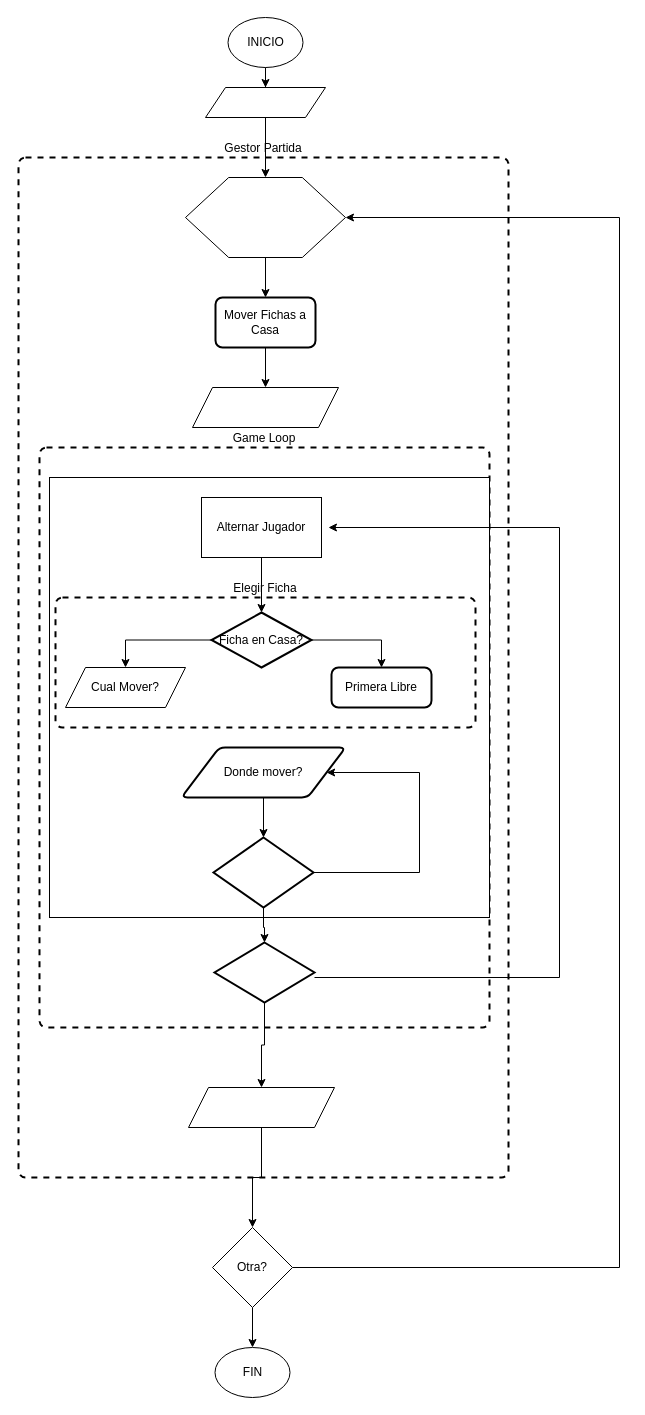
This 645x1415 diagram has some shape labels left out. The centre of each missing label's shape, as x and y in pixels:
Game Scores: point (261, 1107)
Ganado?: point (264, 972)
Nombre Jugadores: point (265, 407)
Resetear Marcadores: point (265, 217)
Título: point (265, 102)
Válido?: point (263, 872)
